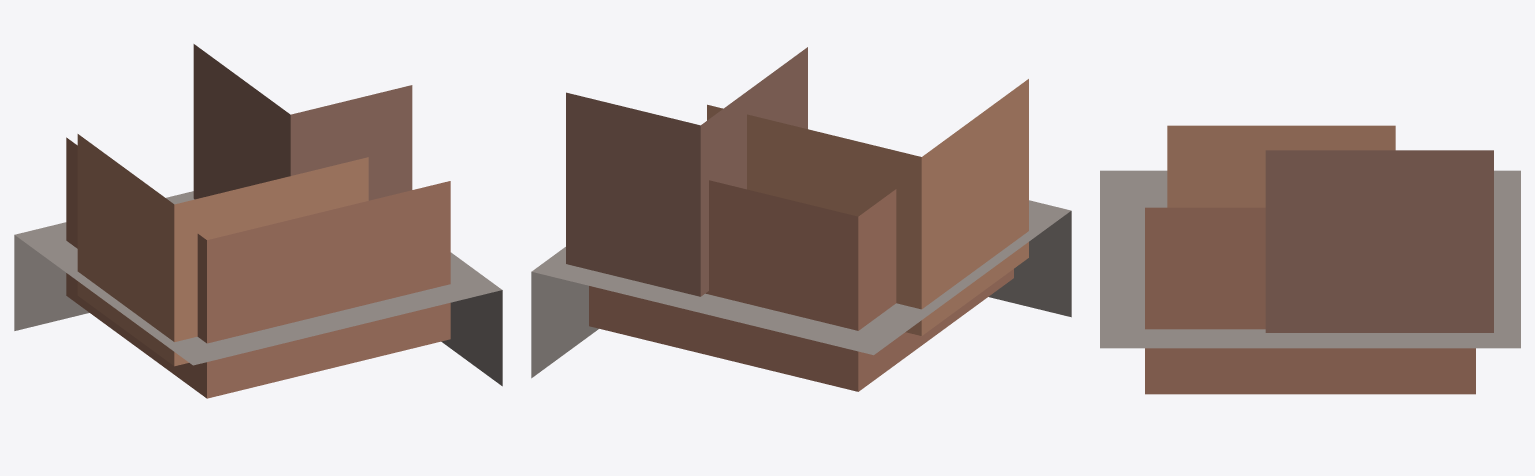
The model's file is ore_iron.glb.
3 renders of one model, left to right at view 1: azimuth 30°, elevation 25°; view 2: azimuth 150°, elevation 25°; view 3: azimuth 270°, elevation 25°, orthographic. The views are drawn at different scales.
Visible parts, largest first — view 1: Ore_Iron_Primary, Ore_Iron_Secondary, Ore_Iron_Accent, Ore_Iron_Matrix; view 2: Ore_Iron_Primary, Ore_Iron_Secondary, Ore_Iron_Accent, Ore_Iron_Matrix; view 3: Ore_Iron_Accent, Ore_Iron_Primary, Ore_Iron_Matrix, Ore_Iron_Secondary.
Boxes of the visible parts, x1,y1,x2,y2 form: Ore_Iron_Primary: (66, 137, 450, 398); Ore_Iron_Secondary: (77, 134, 368, 366); Ore_Iron_Accent: (193, 44, 412, 200); Ore_Iron_Matrix: (14, 191, 502, 386); Ore_Iron_Primary: (589, 180, 1013, 391); Ore_Iron_Secondary: (707, 79, 1028, 335); Ore_Iron_Accent: (566, 47, 807, 296); Ore_Iron_Matrix: (531, 200, 1071, 378); Ore_Iron_Accent: (1265, 150, 1493, 332); Ore_Iron_Primary: (1145, 207, 1475, 394); Ore_Iron_Matrix: (1100, 170, 1520, 348); Ore_Iron_Secondary: (1167, 125, 1395, 207).
Bounding box in the file's own units: 0.94 × 0.74 × 0.94.
